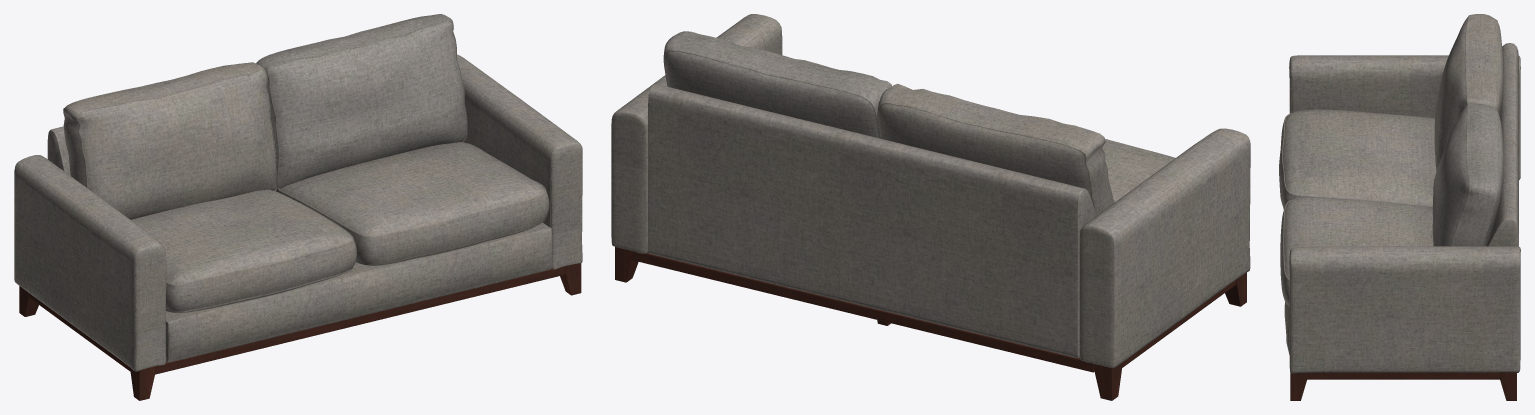
File: north_end_exposed_wood_sofa.glb
The picture shows the model from 3 angles, left to right: view 1: azimuth 30°, elevation 25°; view 2: azimuth 150°, elevation 25°; view 3: azimuth 270°, elevation 25°; orthographic projection. The views are drawn at different scales.
Parts seen in each view (by area): view 1: RootNode; view 2: RootNode; view 3: RootNode.
Part boxes in pixels (bbox=[...]): RootNode: bbox=[14, 14, 582, 400]; RootNode: bbox=[611, 14, 1250, 400]; RootNode: bbox=[1279, 14, 1520, 400].
Size of the model in its own units: 1.98 by 0.8919 by 0.9694.
Materials: 1 (1 with a texture image).
